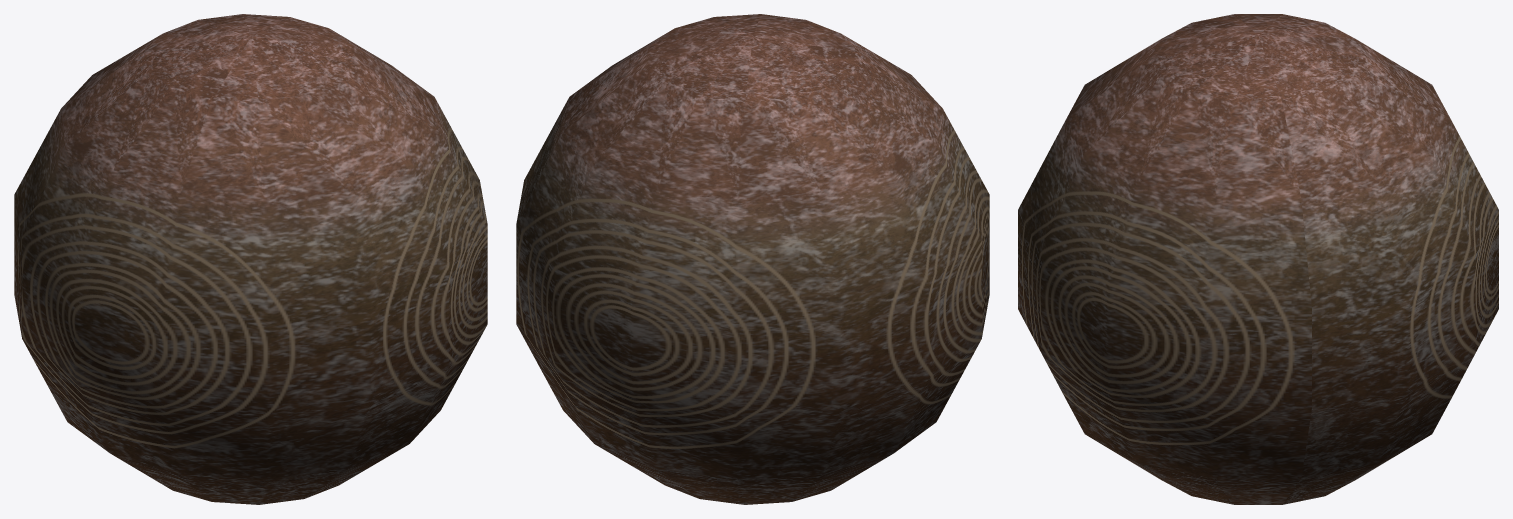
The model's file is Ball_3.FBX.
3 renders of one model, left to right at view 1: azimuth 30°, elevation 25°; view 2: azimuth 150°, elevation 25°; view 3: azimuth 270°, elevation 25°, orthographic.
Visible parts, largest first — view 1: Sphere023; view 2: Sphere023; view 3: Sphere023.
Part boxes in pixels (x1,y1,x2,y2): Sphere023: (14, 14, 487, 504); Sphere023: (516, 14, 989, 504); Sphere023: (1018, 14, 1498, 504).
Bounding box in the file's own units: 2.88 × 3.03 × 2.96.
